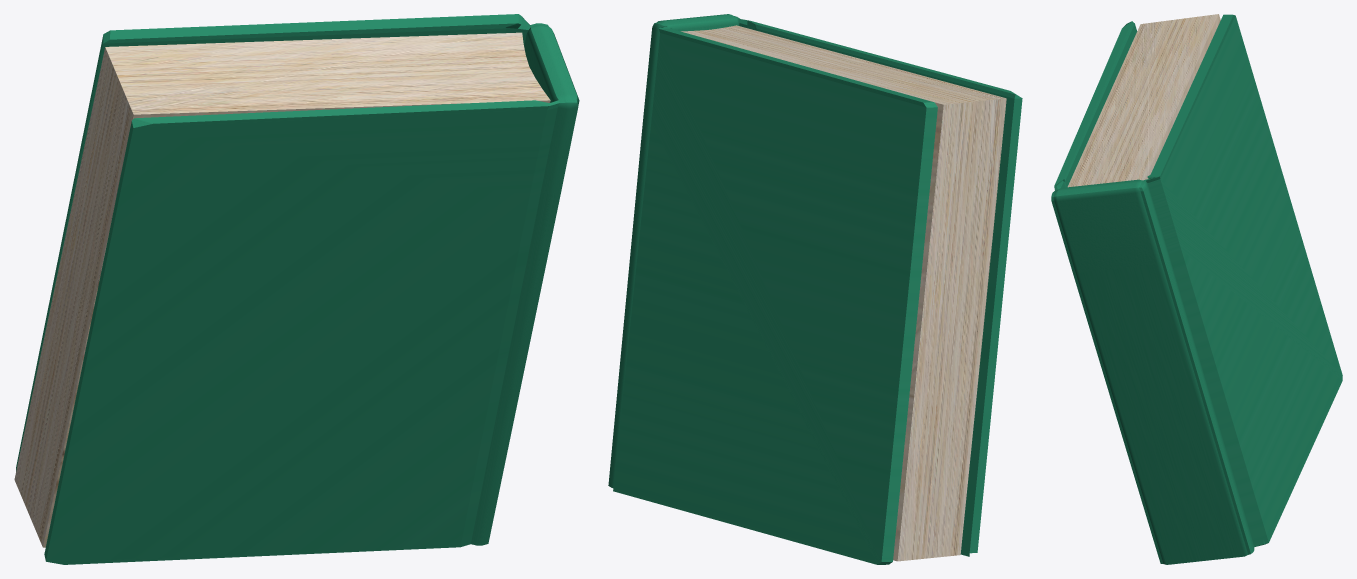
The model's file is Books_Green.fbx.
The picture shows the model from 3 angles, left to right: view 1: azimuth 30°, elevation 25°; view 2: azimuth 150°, elevation 25°; view 3: azimuth 270°, elevation 25°; orthographic projection. The views are drawn at different scales.
Visible parts, largest first — view 1: green_closed_book:pCube2; view 2: green_closed_book:pCube2; view 3: green_closed_book:pCube2.
Part boxes in pixels (box(x1,y1,x2,y2)): green_closed_book:pCube2: box(14, 14, 579, 564); green_closed_book:pCube2: box(608, 14, 1022, 564); green_closed_book:pCube2: box(1051, 14, 1342, 564).
Size of the model in its own units: 3.47 by 4.18 by 2.59.
1 material, 1 textured.
